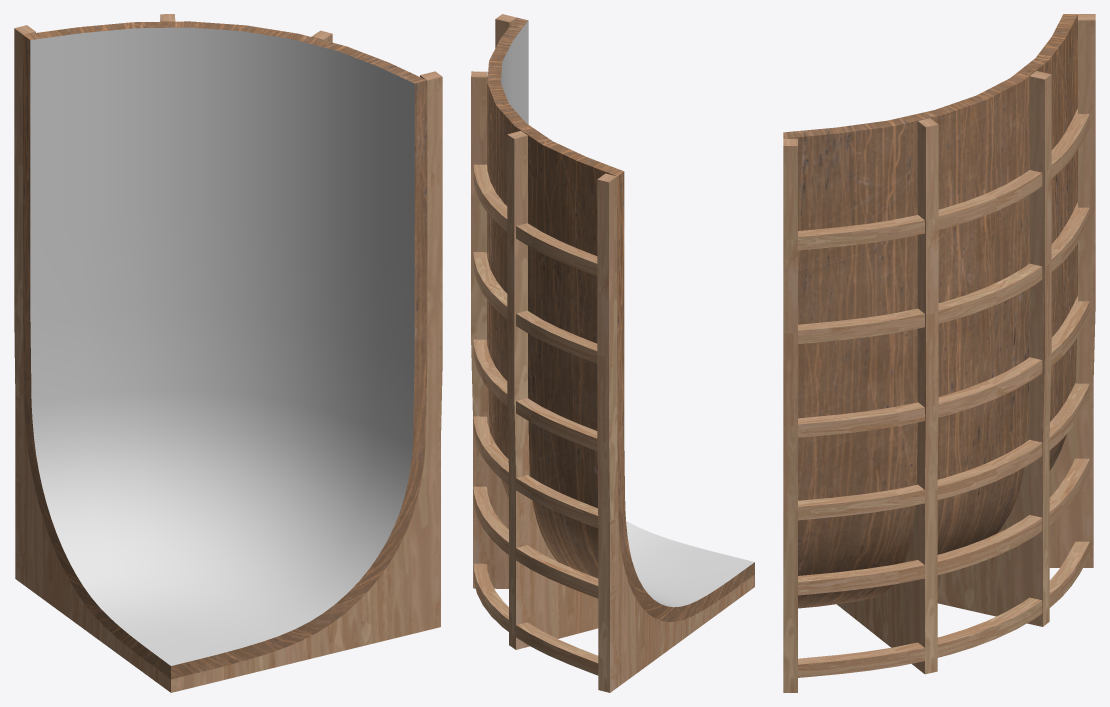
Rendered from GreenScreen_Corner.fbx.
The picture shows the model from 3 angles, left to right: view 1: azimuth 30°, elevation 25°; view 2: azimuth 150°, elevation 25°; view 3: azimuth 270°, elevation 25°; orthographic projection. The views are drawn at different scales.
Parts seen in each view (by area): view 1: GreenScreen_Corner; view 2: GreenScreen_Corner; view 3: GreenScreen_Corner.
Part boxes in pixels (left/top/right/bottom): GreenScreen_Corner: left=14, top=14, right=442, bottom=692; GreenScreen_Corner: left=471, top=14, right=754, bottom=692; GreenScreen_Corner: left=783, top=14, right=1095, bottom=692.
Bounding box in the file's own units: 2.12 × 4.1 × 2.12.
